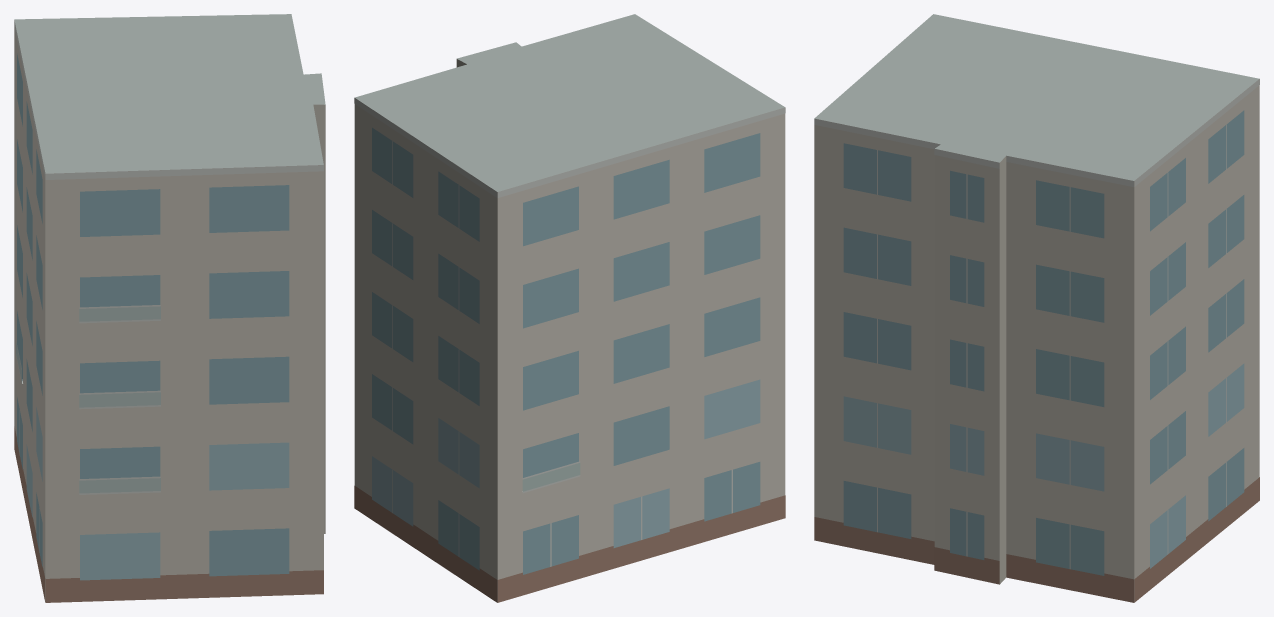
Rendered from survey-upis-32593459.glb.
3 views of the same model, side by side, from view 1: azimuth 30°, elevation 25°; view 2: azimuth 150°, elevation 25°; view 3: azimuth 270°, elevation 25° (orthographic). The views are drawn at different scales.
Parts seen in each view (by area): view 1: survey-upis-32593459.tmp; view 2: survey-upis-32593459.tmp; view 3: survey-upis-32593459.tmp.
Part boxes in pixels (x1=…): survey-upis-32593459.tmp: x1=14, y1=14, x2=325, y2=602; survey-upis-32593459.tmp: x1=354, y1=14, x2=785, y2=602; survey-upis-32593459.tmp: x1=814, y1=14, x2=1259, y2=602.
Size of the model in its own units: 13.93 by 16.4 by 15.7.
